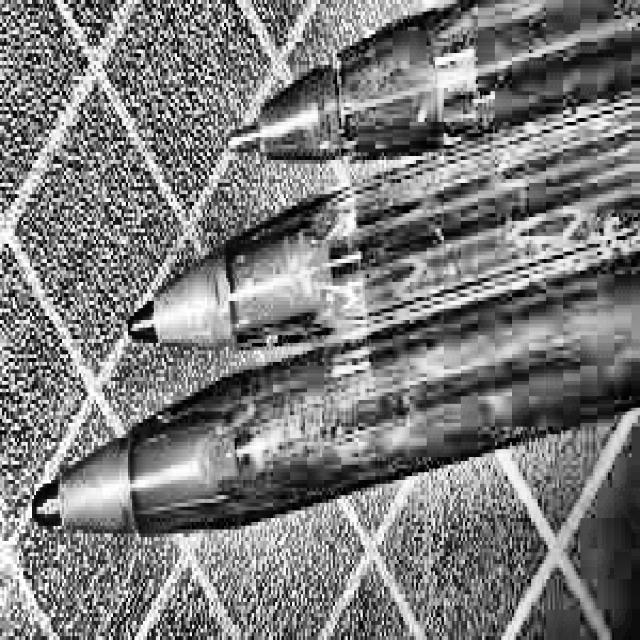Pen: (0, 338, 640, 546), (85, 133, 640, 354), (203, 0, 633, 203)
